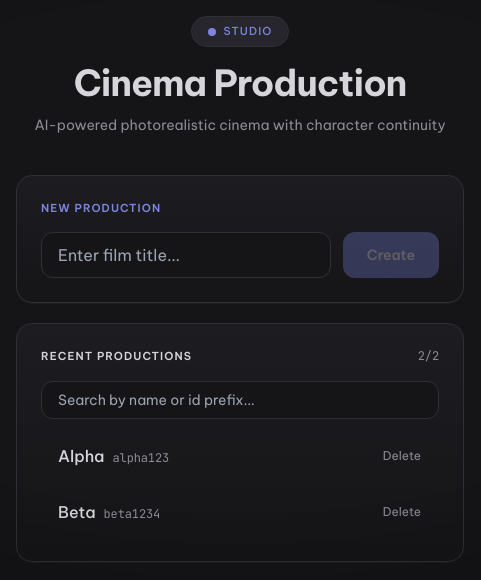
it: ProjectSelector project deletion › locks all project actions while one delete is pending
expect the text "Alpha" is shown: met, box left=58, top=446, right=104, bottom=466
Click the button with aria-label "Delete Alpha".
click(402, 456)  # box left=374, top=443, right=430, bottom=469
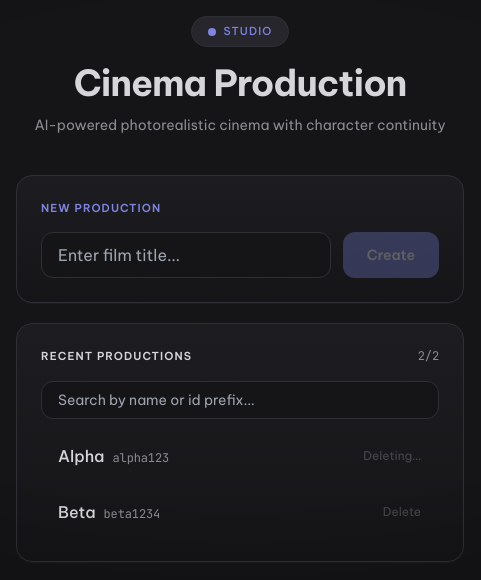
expect the button named "Beta beta1234" is disabled: met, box left=42, top=488, right=374, bottom=536
expect the button with aria-label "Delete Beta" is disabled: met
Click the button with aria-label "Delete Beta".
click(402, 512)  # box left=374, top=499, right=430, bottom=525
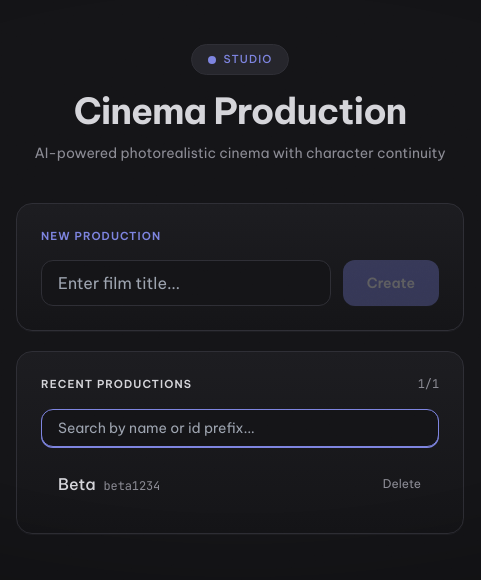
expect the button "Alpha" is gone: met
